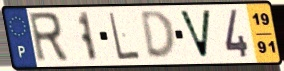1: (76, 9, 100, 64)
4: (223, 7, 250, 60)
D: (138, 9, 178, 62)
L: (107, 11, 142, 62)
R: (26, 11, 71, 65)
V: (176, 9, 213, 61)
